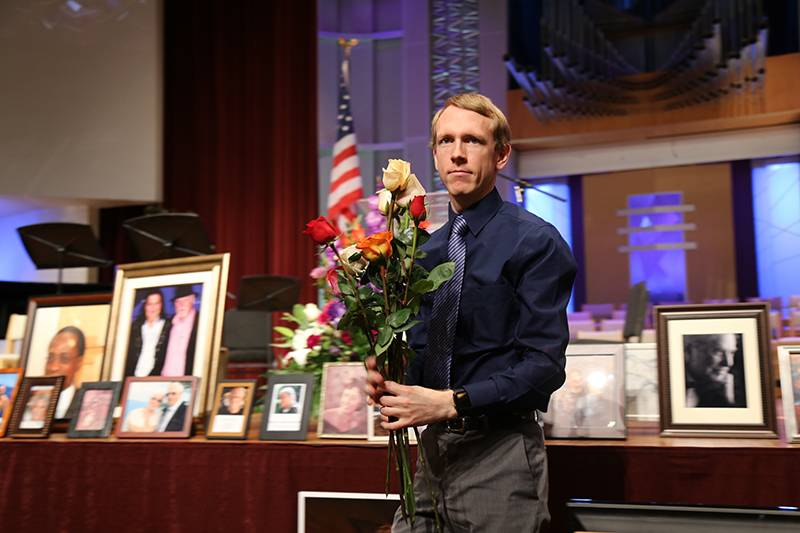person: (368, 87, 577, 530), (682, 335, 746, 407), (167, 285, 200, 372), (135, 287, 163, 378), (44, 330, 85, 375), (162, 384, 189, 431), (133, 387, 162, 430), (275, 384, 302, 419), (220, 384, 247, 417)
